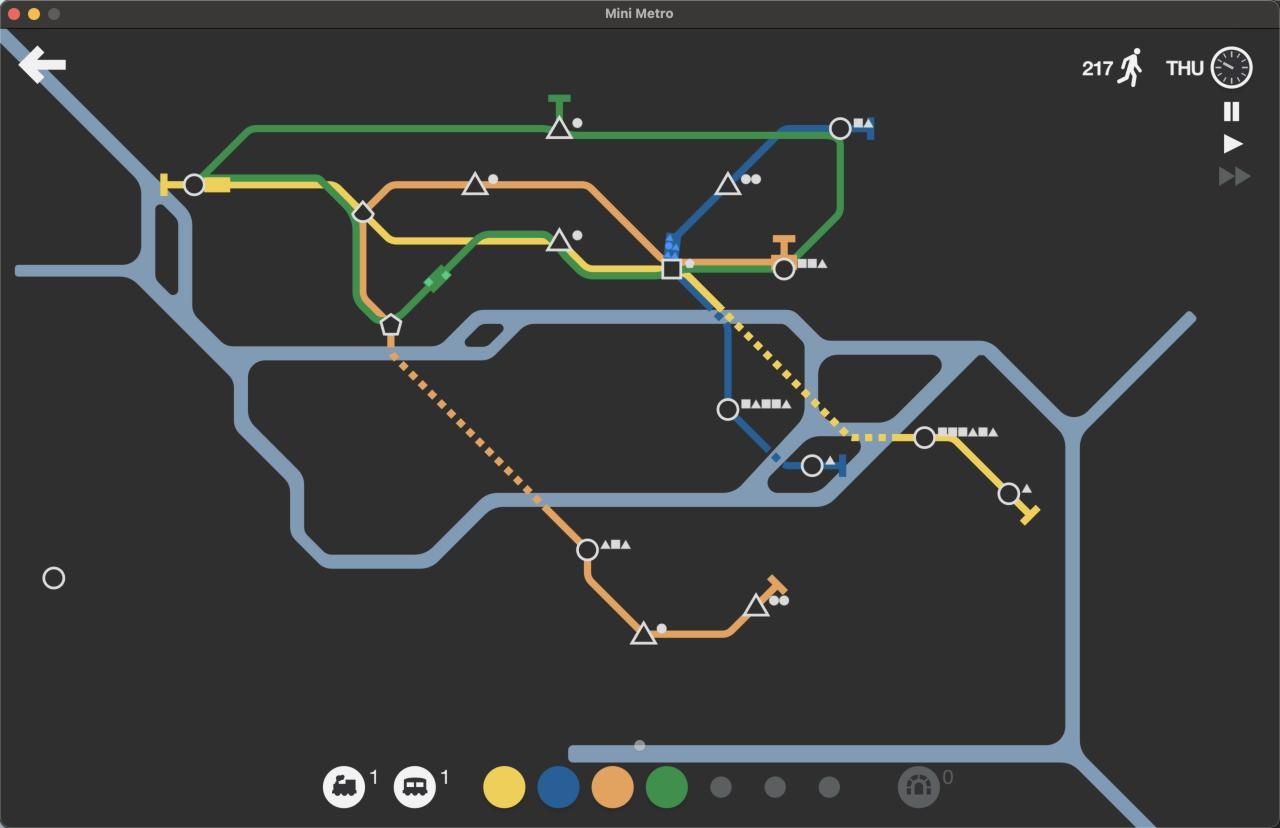CIRCLE: (716, 397, 740, 422), (828, 116, 852, 141), (772, 256, 796, 281), (42, 566, 67, 590), (575, 538, 599, 562), (997, 482, 1021, 506), (801, 453, 824, 478), (183, 173, 206, 196), (913, 426, 936, 449)
PENTAGON: (379, 313, 403, 338)
SQUARE: (661, 257, 684, 280)
TRIANGLE: (545, 226, 575, 253), (544, 114, 574, 141), (629, 619, 658, 646), (742, 591, 770, 618), (461, 170, 490, 196), (714, 170, 741, 197)
WEDGE: (351, 199, 375, 223)
